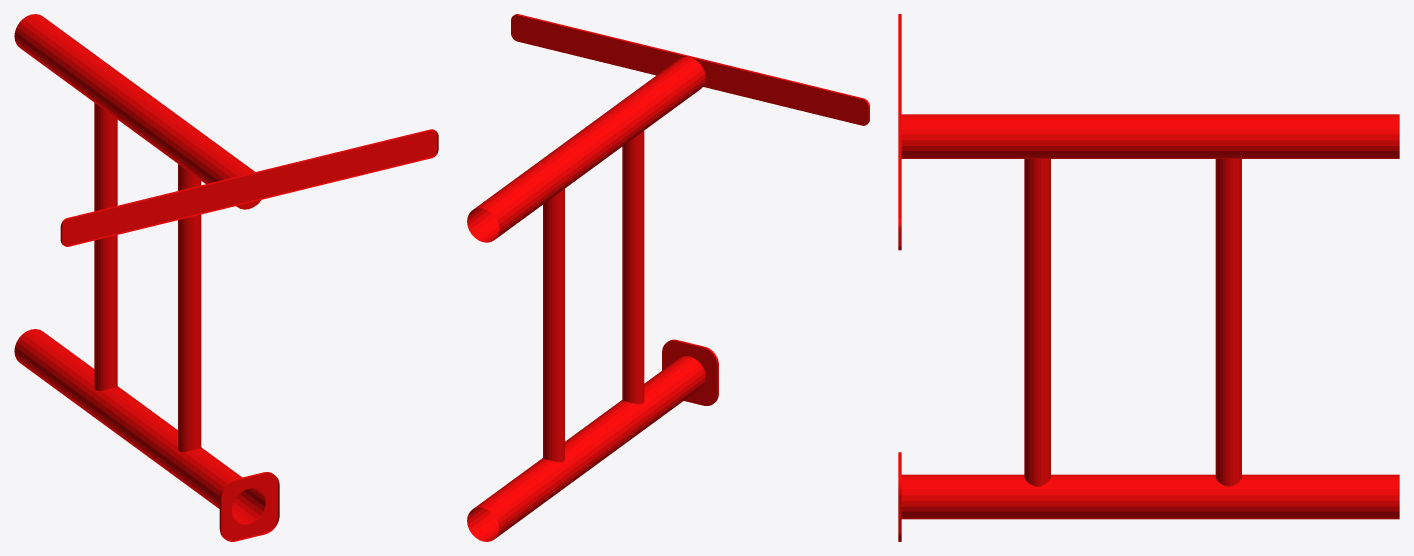
Rendered from soporte.fbx.
3 renders of one model, left to right at view 1: azimuth 30°, elevation 25°; view 2: azimuth 150°, elevation 25°; view 3: azimuth 270°, elevation 25°, orthographic. The views are drawn at different scales.
Parts seen in each view (by area): view 1: soporte; view 2: soporte; view 3: soporte.
Part boxes in pixels (x1,y1,x2,y2): soporte: [14, 14, 438, 541]; soporte: [467, 14, 869, 541]; soporte: [898, 14, 1399, 541].
Size of the model in its own units: 282 by 280 by 258.
